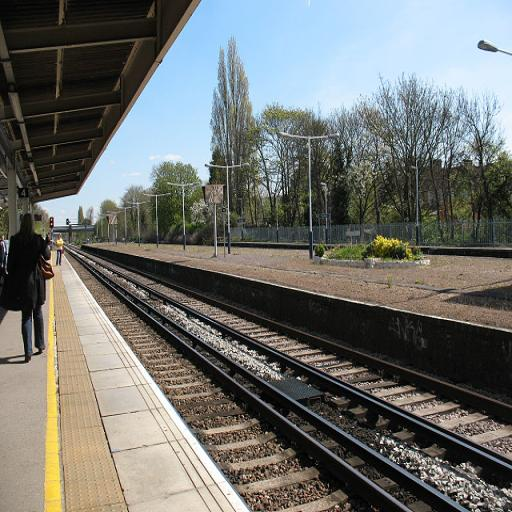platform_edge: (34, 288, 227, 512)
